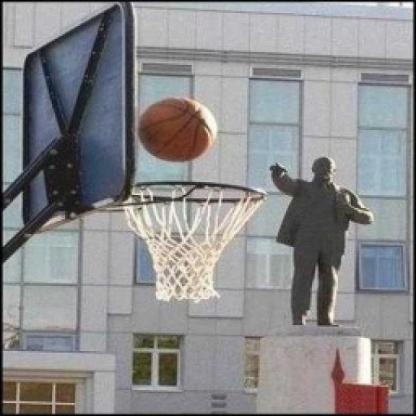basketball: (134, 92, 224, 168)
